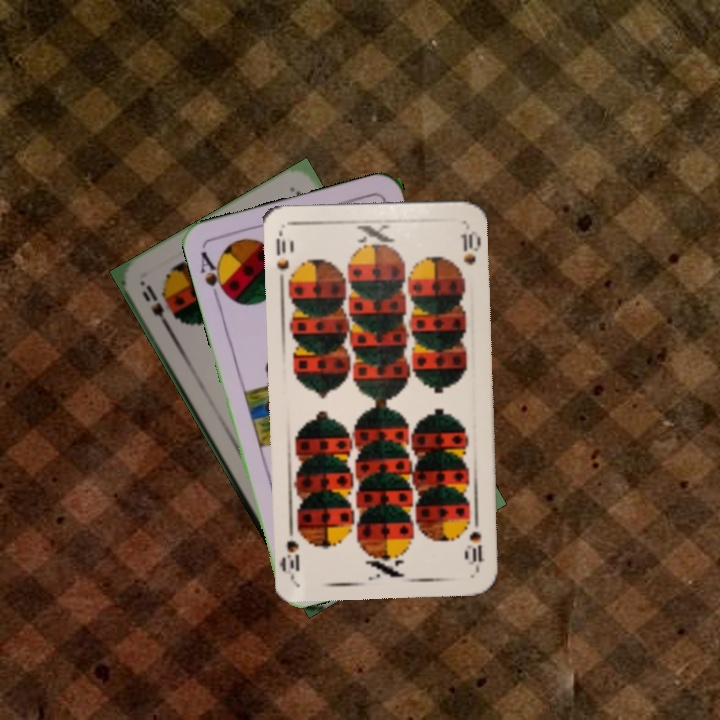S10: (272, 228, 297, 287), (465, 512, 486, 571)
SA: (196, 247, 232, 304)
SO: (137, 280, 174, 334)
